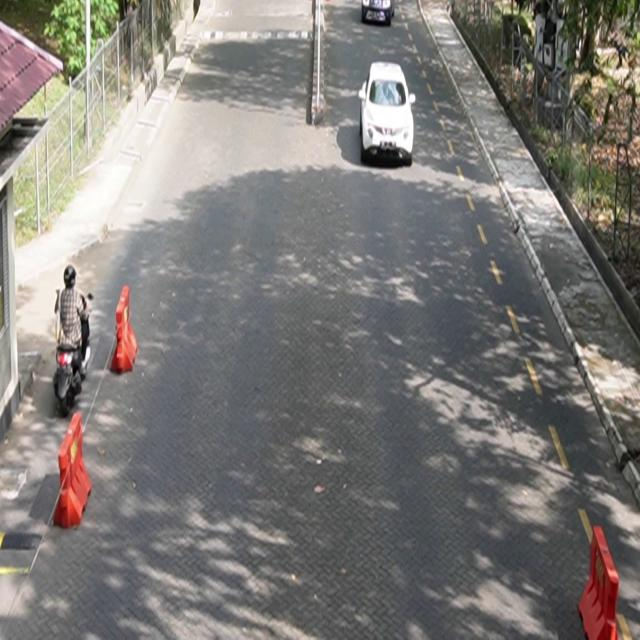car: (359, 61, 417, 166), (362, 1, 396, 26)
